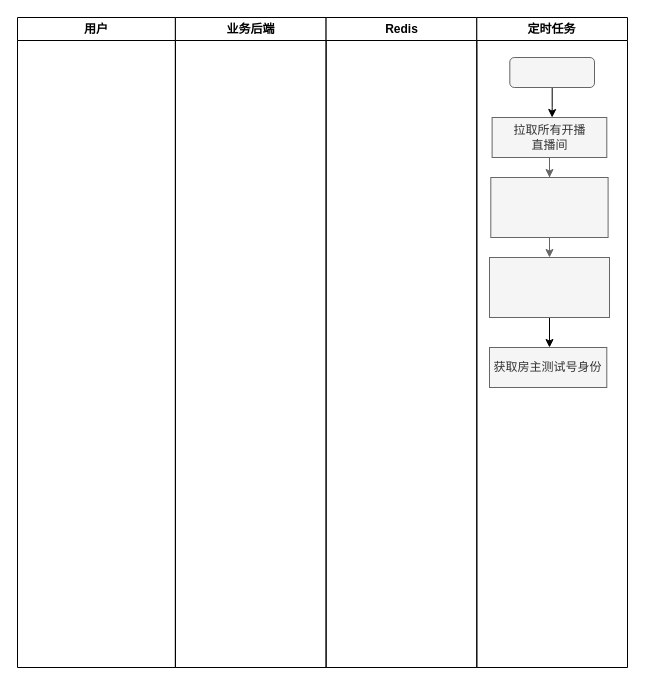
This 645x685 diagram has some shape labels left out. Each missing label, with the centre of its shape:
RedSchedule: [551,72]
获取房间交互数据 （点赞、举手、进房数据）: [549,287]
获取房间基本信息 （麦上人数、开播时间）: [549,207]
